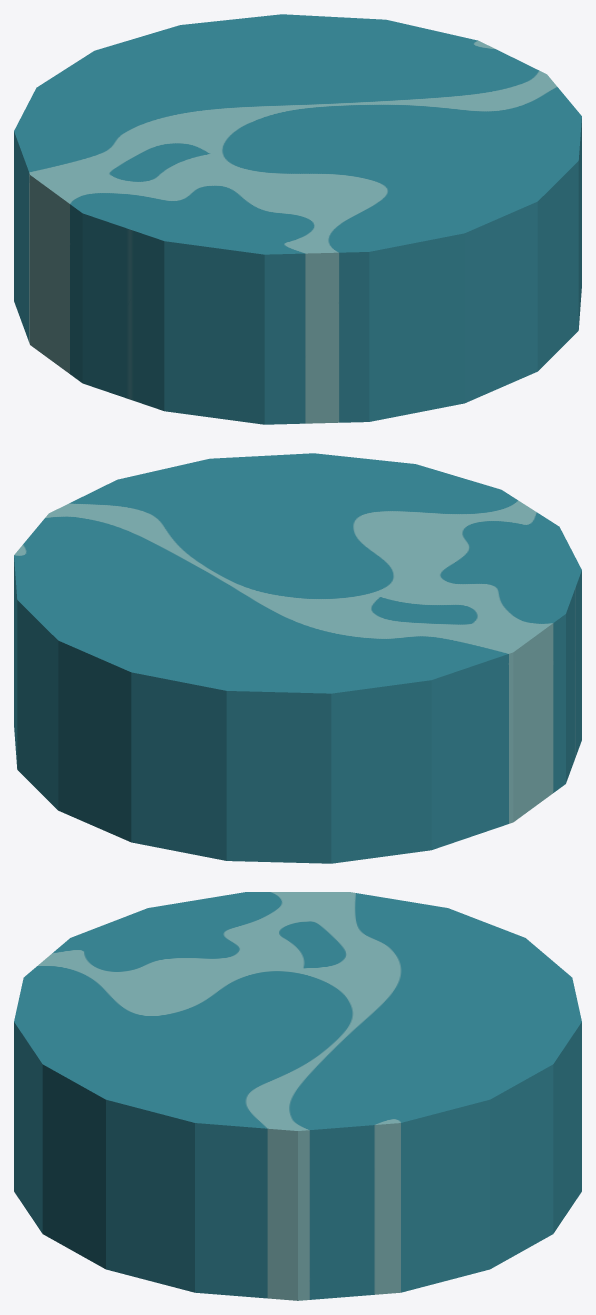
File: WaxWorld_Water_For_Bucket.fbx
3 views of the same model, one above another, from view 1: azimuth 30°, elevation 25°; view 2: azimuth 150°, elevation 25°; view 3: azimuth 270°, elevation 25° (orthographic).
Parts seen in each view (by area): view 1: Cylinder002; view 2: Cylinder002; view 3: Cylinder002.
Part boxes in pixels (left/top/right/bottom): Cylinder002: left=14, top=14, right=581, bottom=424; Cylinder002: left=14, top=453, right=581, bottom=863; Cylinder002: left=14, top=892, right=581, bottom=1300.
Bounding box in the file's own units: 18.94 × 6.27 × 19.02.
Materials: 1 (1 with a texture image).
